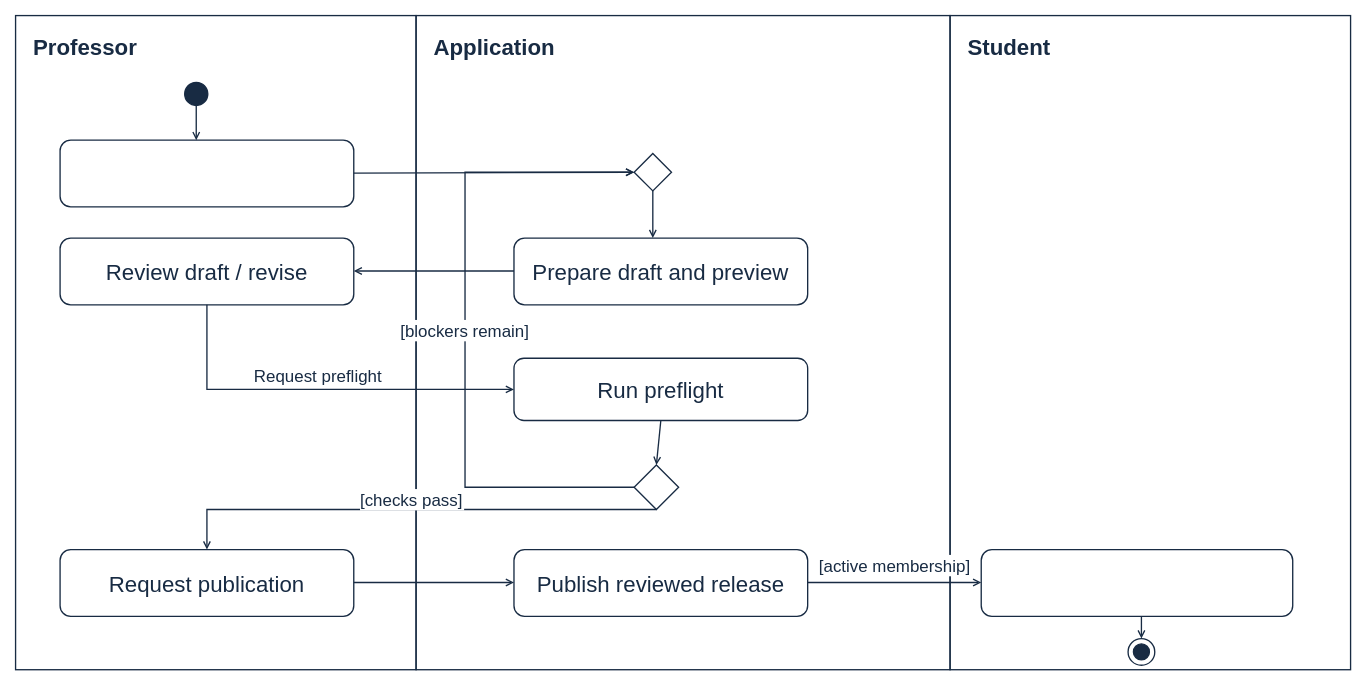
The diagram is 1367 pixels wide and 686 high, and some of its shapes have lost their labels. Here are the shapes that lost their labels. From the top down, the box of each, then its label:
(59, 139, 354, 207): Provide sources and policy
(980, 549, 1293, 617): Open authorized conversation
